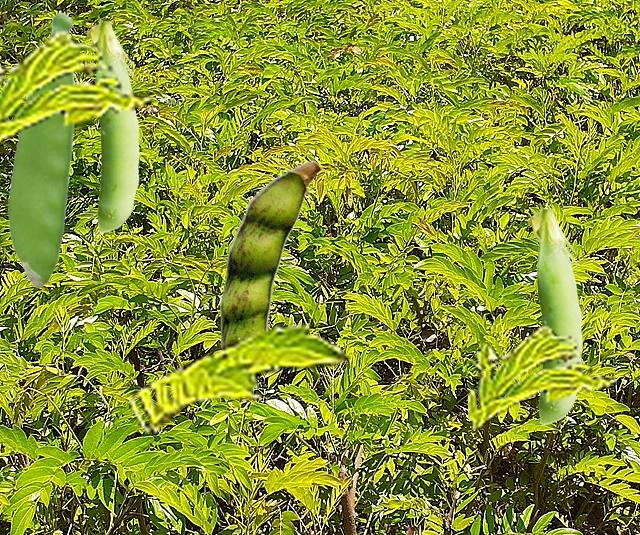pea: (7, 11, 75, 287), (220, 160, 321, 345), (527, 202, 581, 424), (86, 15, 138, 232)
